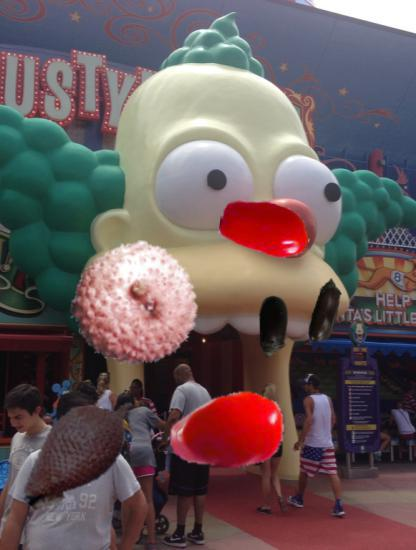Eggplant: (291, 277, 360, 346), (240, 295, 308, 363)
Lychee: (72, 239, 201, 368)
Pear: (75, 271, 132, 328)
Salak: (6, 380, 149, 523)
Tomato: (169, 371, 286, 488), (220, 183, 311, 274)
